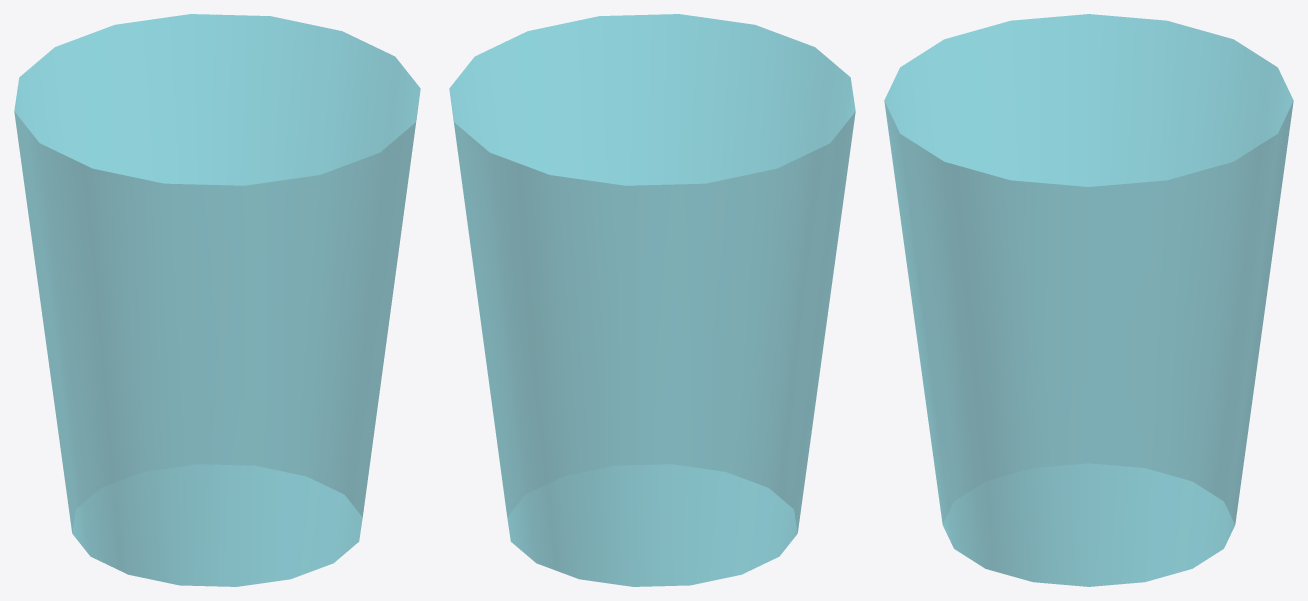
The model's file is water.fbx.
3 views of the same model, side by side, from view 1: azimuth 30°, elevation 25°; view 2: azimuth 150°, elevation 25°; view 3: azimuth 270°, elevation 25° (orthographic).
Parts seen in each view (by area): view 1: water; view 2: water; view 3: water.
Boxes of the visible parts, x1,y1,x2,y2 form: water: (14,14,420,586); water: (449,14,855,586); water: (884,14,1293,586).
Size of the model in its own units: 0.0548 by 0.0548 by 0.0628.
